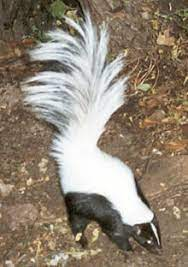skunk: (25, 13, 164, 250)
